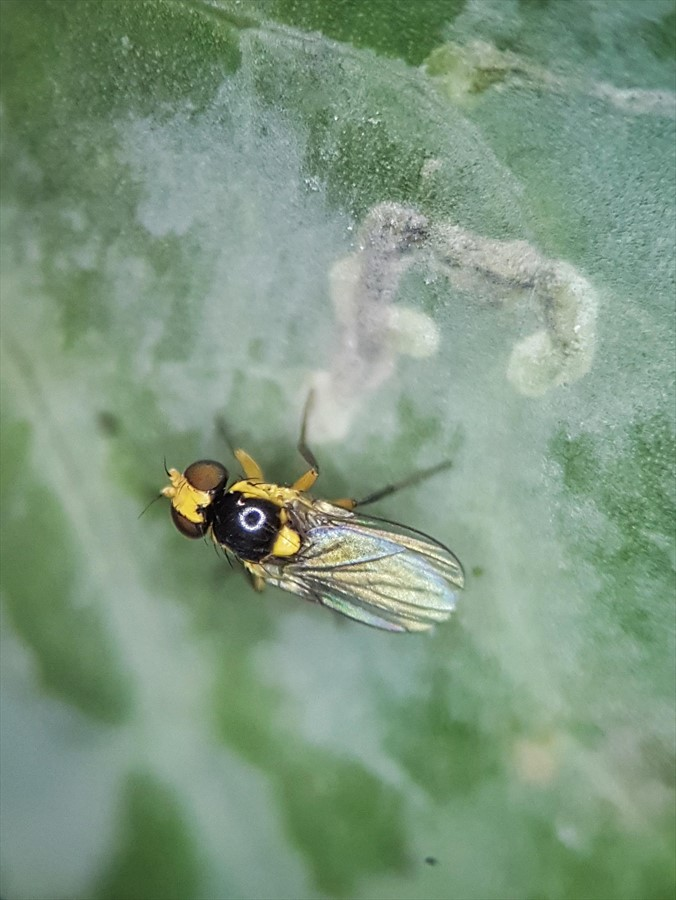Trifoli: (143, 417, 490, 664)
